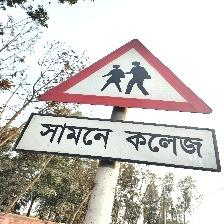College-in-front: (31, 34, 224, 196)
